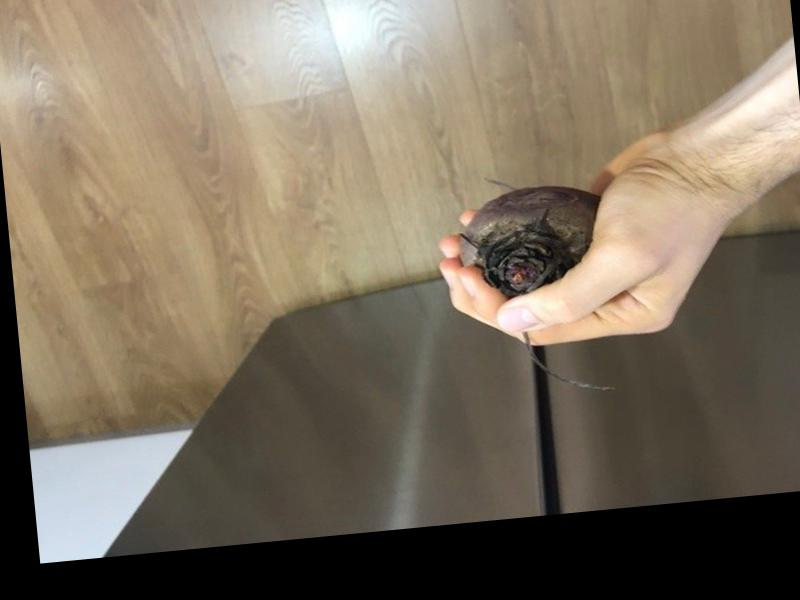Beet: (452, 181, 619, 404)
